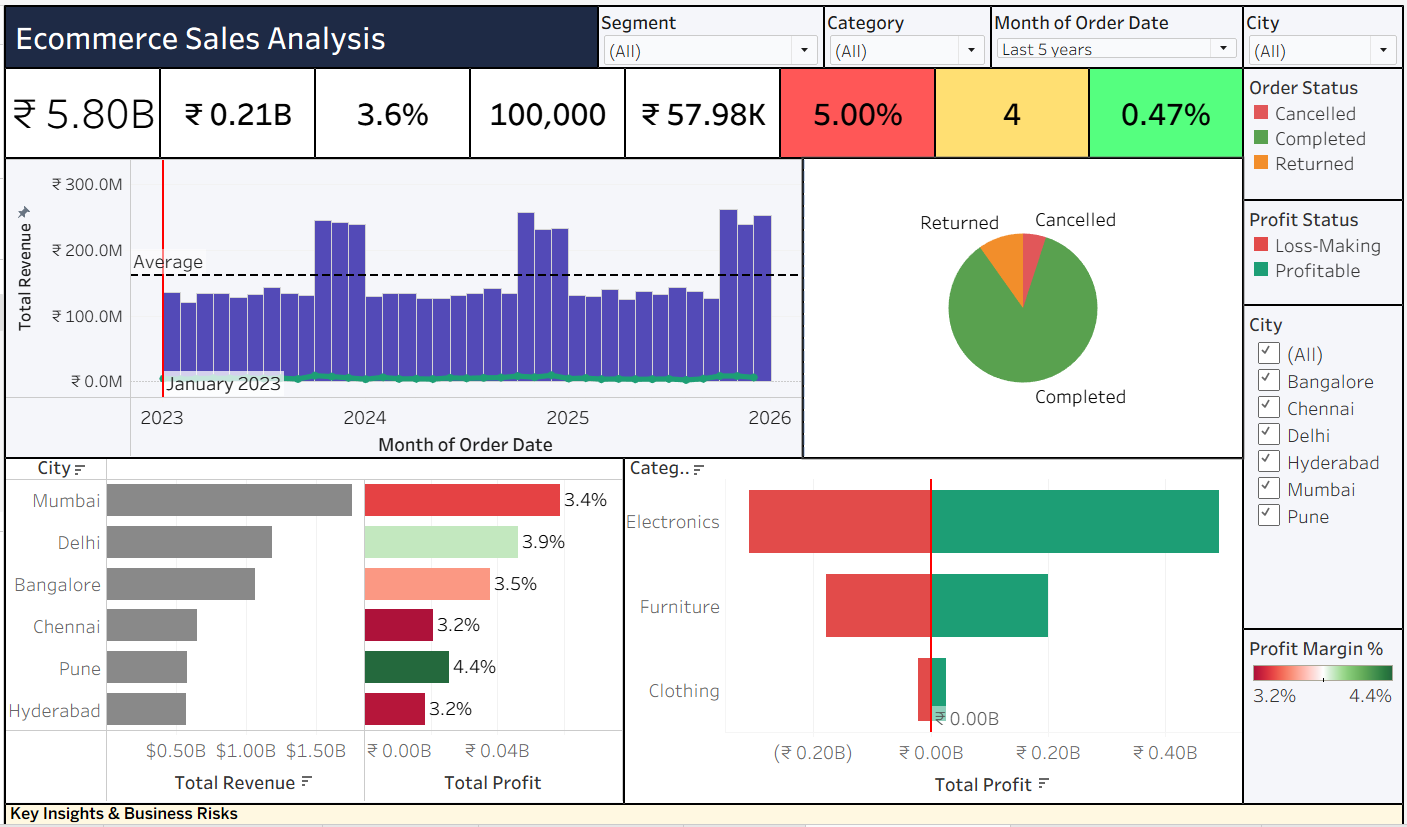

This screenshot's page, from the dashboard's own definition file:
{"tool":"tableau","page":{"name":"Executive Overview","canvas":[1400,900],"ordinal":0},"visuals":[{"type":"text","box":[1,1,593,62]},{"type":"filter","title":"Revenue Trend","param":"[federated.1js2xx1114pdqi10e6kd708olrzj].[none:segment:nk]","box":[594,1,226,62]},{"type":"filter","title":"Revenue Trend","param":"[federated.1js2xx1114pdqi10e6kd708olrzj].[none:category:nk]","box":[820,1,167,62]},{"type":"filter","title":"Revenue Trend","param":"[federated.1js2xx1114pdqi10e6kd708olrzj].[tmn:order_date:qk]","box":[987,1,252,62]},{"type":"filter","title":"Revenue Trend","param":"[federated.1js2xx1114pdqi10e6kd708olrzj].[none:city:nk]","box":[1239,1,160,62]},{"type":"worksheet","title":"KPI – Total Revenue","mark":"Automatic","box":[1,63,155,90]},{"type":"worksheet","title":"KPI 2: Total Profit","mark":"Automatic","box":[156,63,155,90]},{"type":"worksheet","title":"KPI 3: Profit Margin %","mark":"Automatic","box":[311,63,155,90]},{"type":"worksheet","title":"KPI 4: Total Orders","mark":"Automatic","box":[466,63,155,90]},{"type":"worksheet","title":"KPI 5: Avg Order Value","mark":"Automatic","box":[621,63,155,90]},{"type":"worksheet","title":"KPI 6: Cancellation Rate","mark":"Automatic","box":[776,63,155,90]},{"type":"worksheet","title":"KPI 7: Avg Delivery Time","mark":"Automatic","box":[931,63,154,90]},{"type":"worksheet","title":"KPI 8: Shipping Cost %","mark":"Automatic","box":[1085,63,154,90]},{"type":"legend","title":"Order Status","param":"[federated.1js2xx1114pdqi10e6kd708olrzj].[none:order_status:nk]","box":[1239,63,160,132]},{"type":"worksheet","title":"Revenue Trend","mark":"Bar","rows":["Calculation_0588019267665921","Calculation_0588019267817474"],"cols":["order_date"],"box":[1,153,798,300.3]},{"type":"worksheet","title":"Order Status","mark":"Pie","box":[799,153,440,300.3]},{"type":"legend","title":"Profit by Category","param":"[federated.1js2xx1114pdqi10e6kd708olrzj].[none:Calculation_0588019269009417:nk]","box":[1239,195,160,105]},{"type":"filter","title":"Revenue by City (Top 15)","param":"[federated.1js2xx1114pdqi10e6kd708olrzj].[none:city:nk]","box":[1239,300,160,323.7]},{"type":"worksheet","title":"Revenue by City (Top 15)","mark":"Automatic","rows":["city"],"cols":["Calculation_0588019267665921","Calculation_0588019267817474"],"box":[1,453,619,346]},{"type":"worksheet","title":"Profit by Category","mark":"Automatic","rows":["category"],"cols":["Calculation_0588019267817474"],"box":[620,453,619,346]},{"type":"legend","title":"Revenue by City (Top 15)","param":"[federated.1js2xx1114pdqi10e6kd708olrzj].[usr:Calculation_0588019267919875:qk]","box":[1239,623.7,160,175]},{"type":"text","box":[1,798.7,1398,100.3]}]}

Visuals, with their boxes on the page's 1400x900 design canvas (x1, y1, x2, y2). These are canvas units, not pixel positions in the 1407x827 screenshot, which may show the page scaled, cropped or inside an application window:
text: 1:1:594:63
"Revenue Trend" filter: 594:1:820:63
"Revenue Trend" filter: 820:1:987:63
"Revenue Trend" filter: 987:1:1239:63
"Revenue Trend" filter: 1239:1:1399:63
"KPI – Total Revenue" worksheet: 1:63:156:153
"KPI 2: Total Profit" worksheet: 156:63:311:153
"KPI 3: Profit Margin %" worksheet: 311:63:466:153
"KPI 4: Total Orders" worksheet: 466:63:621:153
"KPI 5: Avg Order Value" worksheet: 621:63:776:153
"KPI 6: Cancellation Rate" worksheet: 776:63:931:153
"KPI 7: Avg Delivery Time" worksheet: 931:63:1085:153
"KPI 8: Shipping Cost %" worksheet: 1085:63:1239:153
"Order Status" legend: 1239:63:1399:195
"Revenue Trend" worksheet (Bar marks): 1:153:799:453
"Order Status" worksheet (Pie marks): 799:153:1239:453
"Profit by Category" legend: 1239:195:1399:300
"Revenue by City (Top 15)" filter: 1239:300:1399:624
"Revenue by City (Top 15)" worksheet: 1:453:620:799
"Profit by Category" worksheet: 620:453:1239:799
"Revenue by City (Top 15)" legend: 1239:624:1399:799
text: 1:799:1399:899
